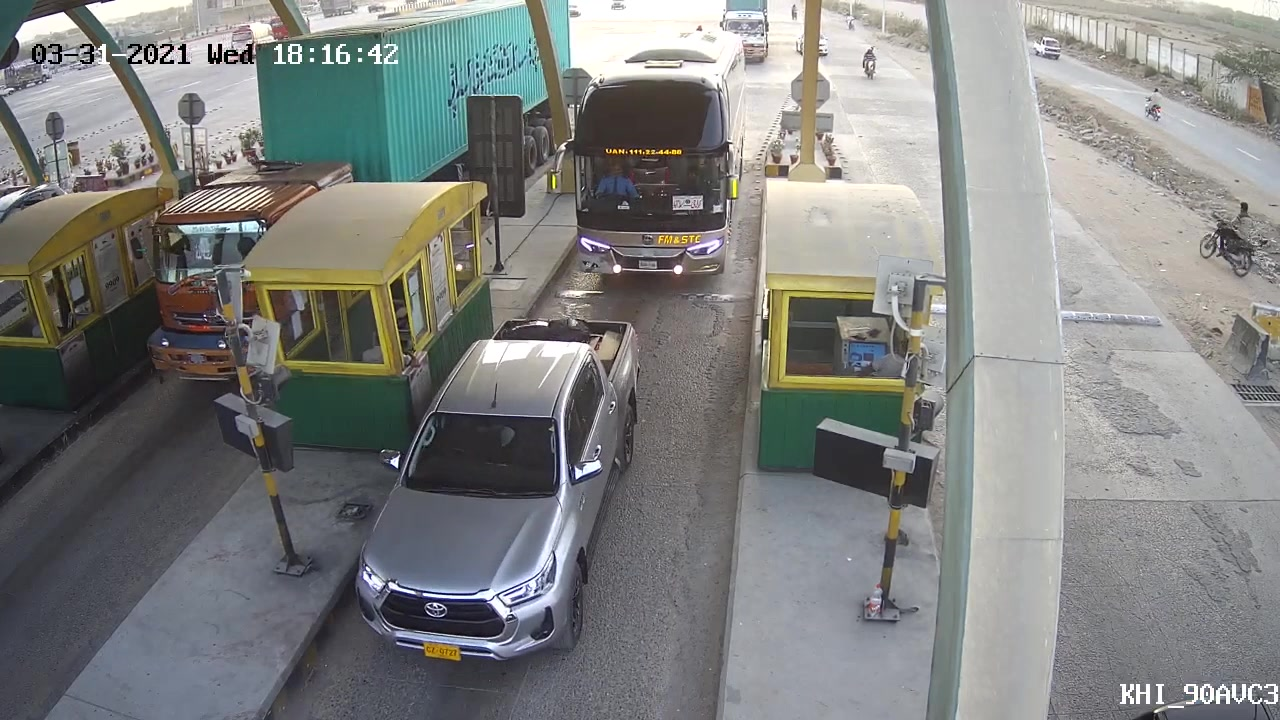F1: (351, 309, 650, 667)
F4: (545, 50, 748, 278)
